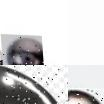ironball: (0, 65, 68, 103), (0, 33, 43, 65), (68, 86, 103, 103)
